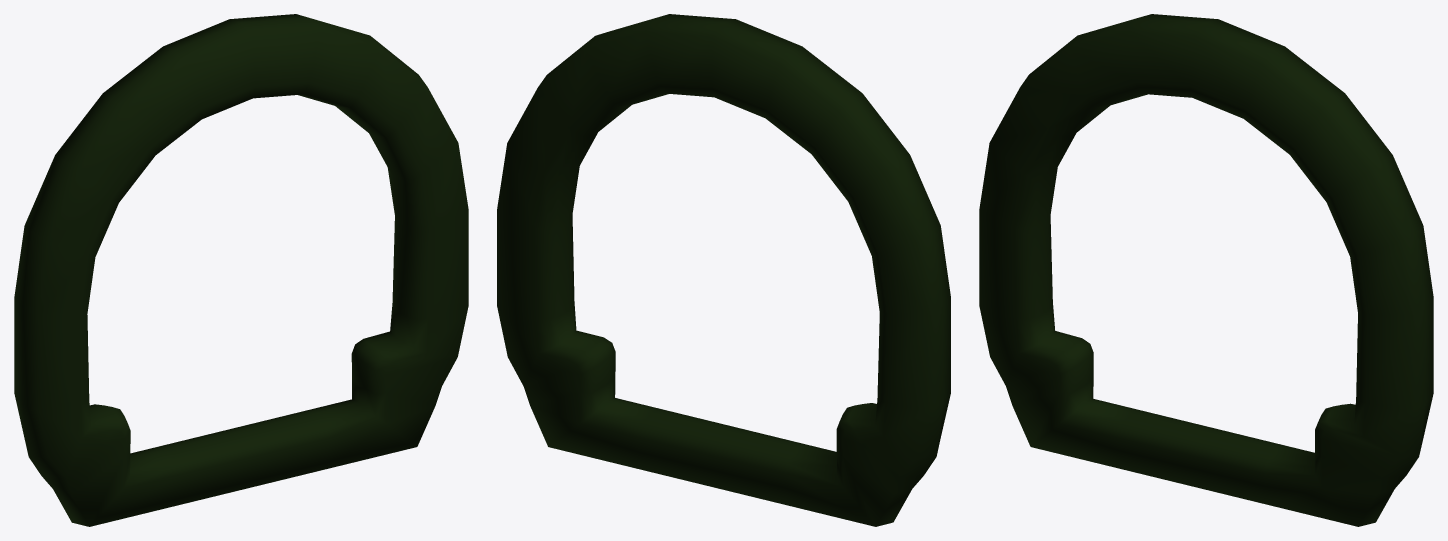
File: SewerModule_Connection_Frame.fbx
3 views of the same model, side by side, from view 1: azimuth 30°, elevation 25°; view 2: azimuth 150°, elevation 25°; view 3: azimuth 330°, elevation 25° (orthographic).
Visible parts, largest first — view 1: Module_straight.main.010; view 2: Module_straight.main.010; view 3: Module_straight.main.010.
Boxes of the visible parts, x1,y1,x2,y2 form: Module_straight.main.010: (14, 14, 468, 526); Module_straight.main.010: (497, 14, 950, 526); Module_straight.main.010: (979, 14, 1433, 526).
Size of the model in its own units: 1010 by 1011 by 112.
